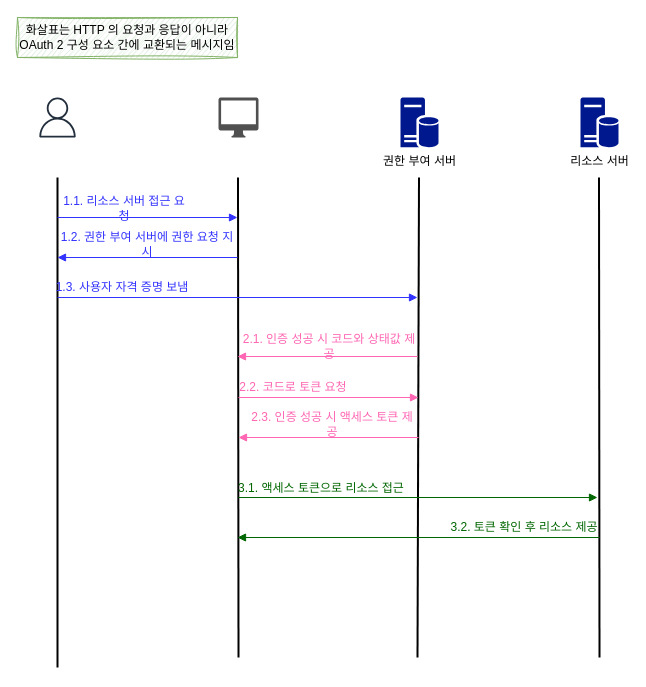
Some shapes in this 646 by 687 pixel diagram are drawn without their labels. Here are the shapes that lost their labels. From the top down, the centre of each, then its label:
At [57,117]: "리소스 소유자 (사용자)".
At [238,117]: "Client".
